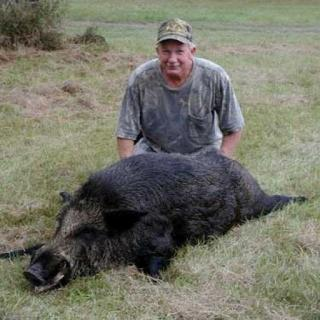Pig: (24, 125, 277, 296)
